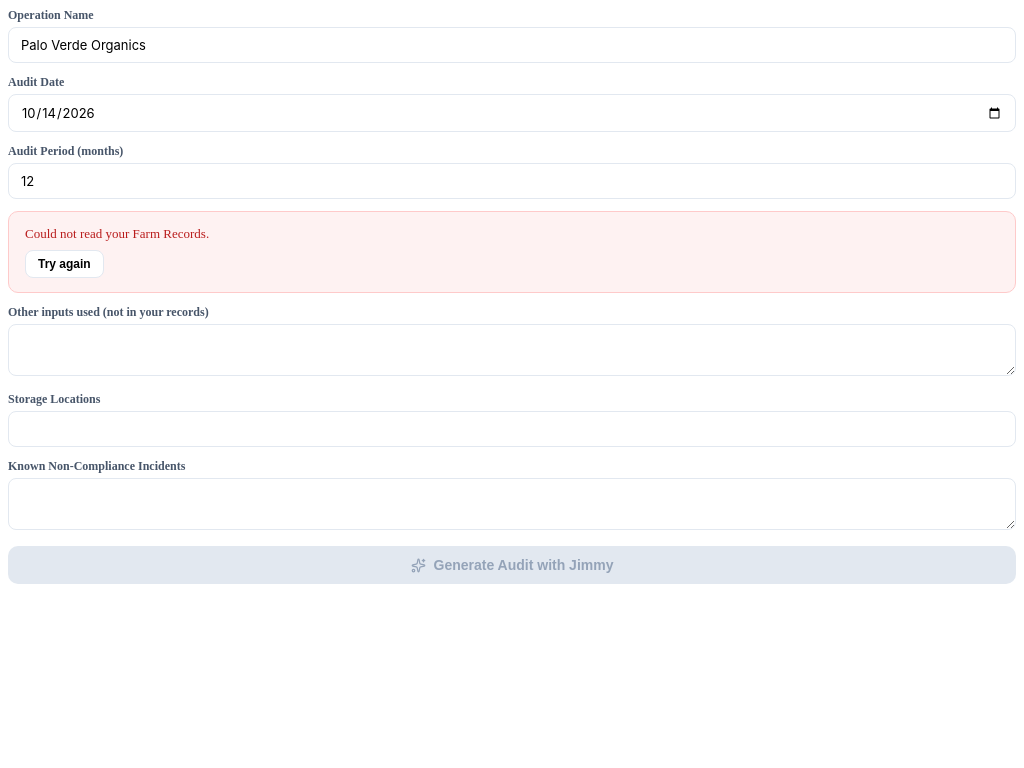
Scenario: SubstanceAuditForm: what it reads from the farm records › says so when the records cannot be read, offers to try again, and will not write an audit from nothing
expect the text "Could not read your Farm Records." is shown: met, box [25,226,209,241]
expect the button "Generate Audit with Jimmy" is disabled: met, box [8,546,1016,584]
Click the button "Try again".
click(64, 264)  # box [25,250,104,278]
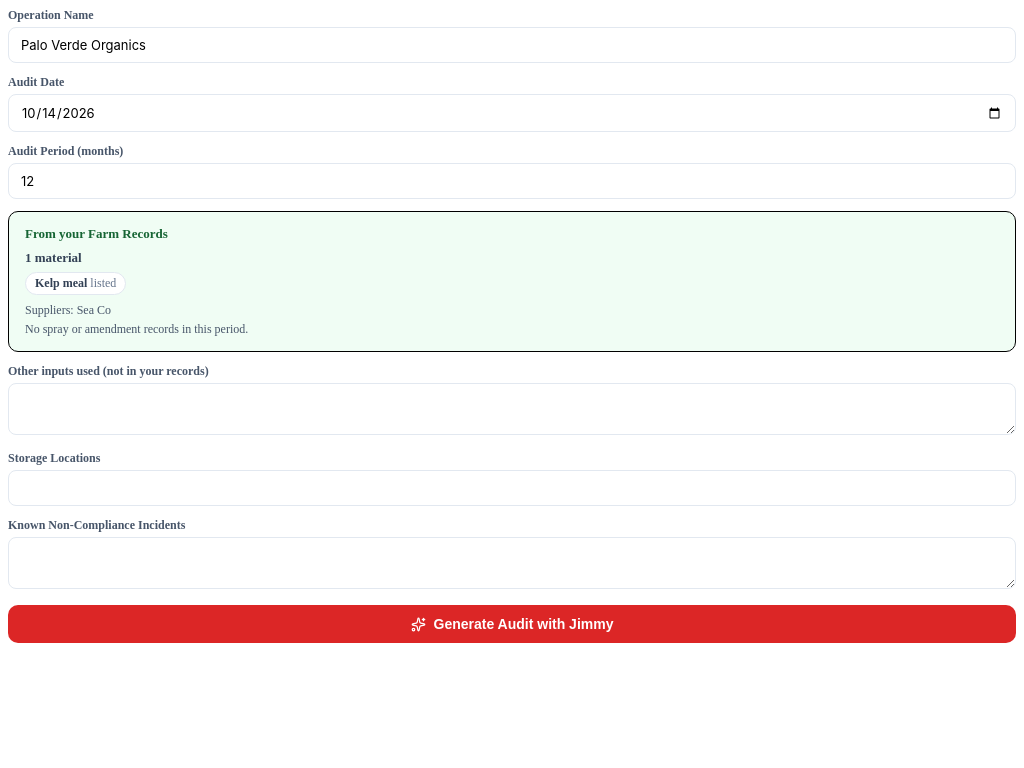
expect the text "1 material" is shown: met, box [25,250,82,265]
expect the button "Generate Audit with Jimmy" is enabled: met, box [8,605,1016,643]
